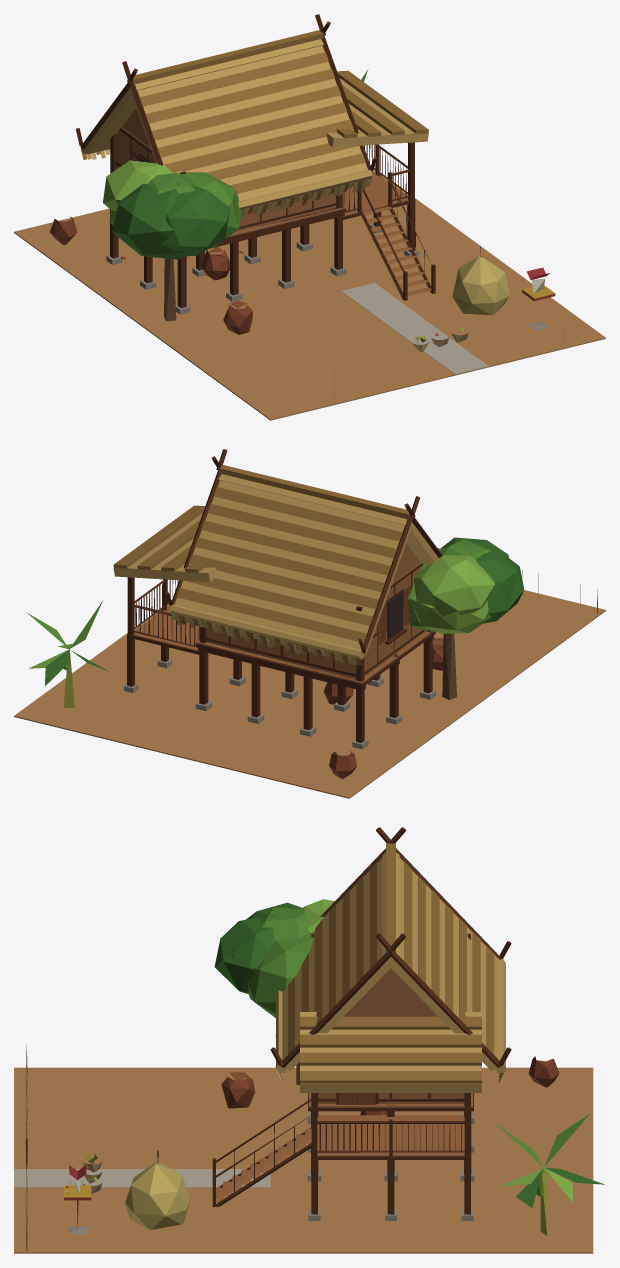
The model's file is house12_1.glb.
The picture shows the model from 3 angles, top to bottom: view 1: azimuth 30°, elevation 25°; view 2: azimuth 150°, elevation 25°; view 3: azimuth 270°, elevation 25°; orthographic projection. The views are drawn at different scales.
Parts seen in each view (by area): view 1: body; view 2: body, windows; view 3: body.
Boxes of the visible parts, bbox=[...] form: body: bbox=[14, 14, 605, 420]; body: bbox=[14, 449, 605, 798]; windows: bbox=[387, 591, 403, 638]; body: bbox=[14, 827, 604, 1253].
Size of the model in its own units: 13.22 by 7.82 by 16.25.
